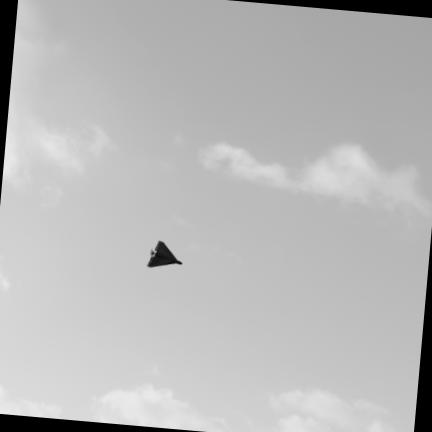Shahed: (148, 242, 181, 266)
